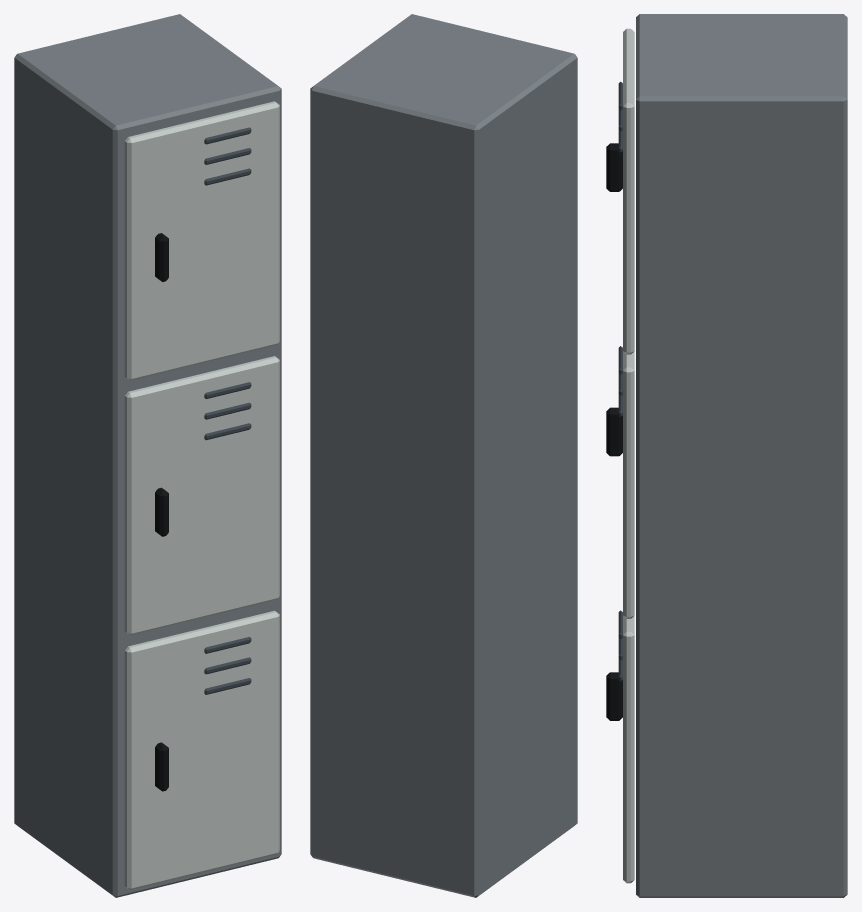
File: ThreeDoorLocker.fbx
3 views of the same model, side by side, from view 1: azimuth 30°, elevation 25°; view 2: azimuth 150°, elevation 25°; view 3: azimuth 270°, elevation 25° (orthographic). The views are drawn at different scales.
Parts seen in each view (by area): view 1: ThreeDoorLocker; view 2: ThreeDoorLocker; view 3: ThreeDoorLocker.
Boxes of the visible parts, left/top/right/bottom form: ThreeDoorLocker: left=14, top=14, right=281, bottom=897; ThreeDoorLocker: left=310, top=14, right=577, bottom=897; ThreeDoorLocker: left=606, top=14, right=847, bottom=897.
Bounding box in the file's own units: 43 × 188 × 51.25.
1 material, 1 textured.
